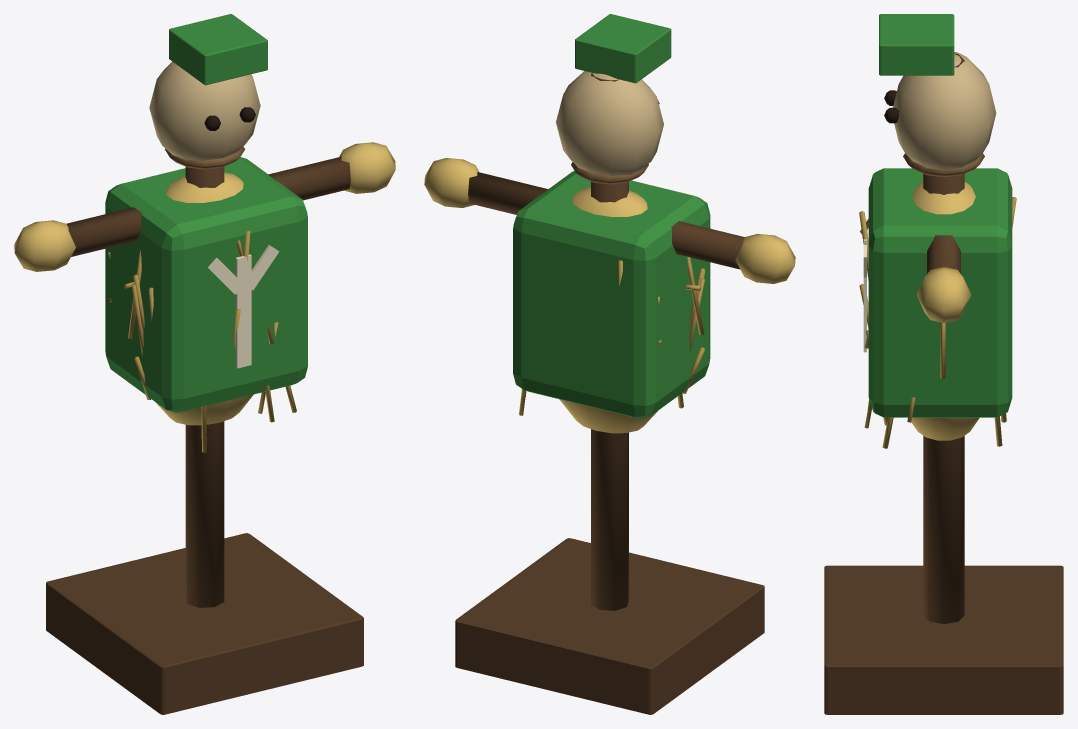
File: uebungspuppe_gruen.glb
The picture shows the model from 3 angles, left to right: view 1: azimuth 30°, elevation 25°; view 2: azimuth 150°, elevation 25°; view 3: azimuth 270°, elevation 25°; orthographic projection. The views are drawn at different scales.
Visible parts, largest first — view 1: Cube; view 2: Cube; view 3: Cube.
Boxes of the visible parts, x1=… form: Cube: x1=14, y1=14, x2=395, y2=714; Cube: x1=424, y1=14, x2=795, y2=714; Cube: x1=824, y1=14, x2=1063, y2=714.
Bounding box in the file's own units: 1.31 × 2.05 × 0.7.
